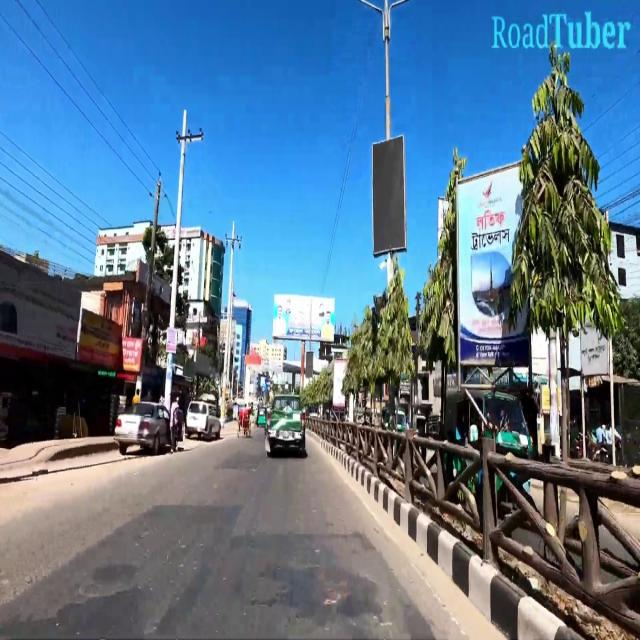white: (111, 401, 184, 448), (186, 402, 222, 440)
